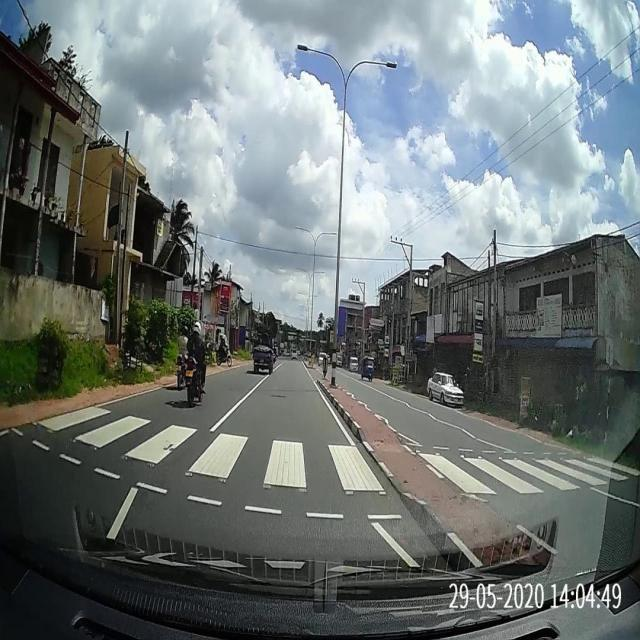Crosswalk: (4, 402, 640, 525)
